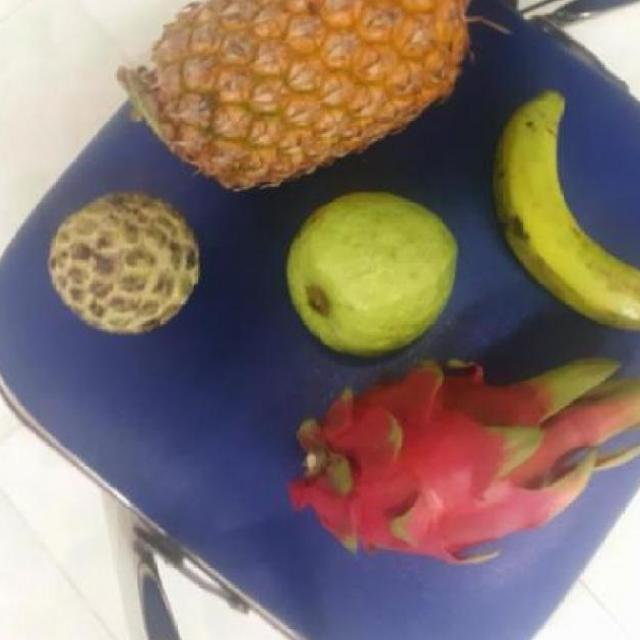banana: (490, 90, 640, 337)
dragon fruit: (292, 354, 606, 564)
guava: (287, 196, 463, 358)
pineapple: (134, 0, 466, 189)
sugar apple: (51, 195, 207, 334)
